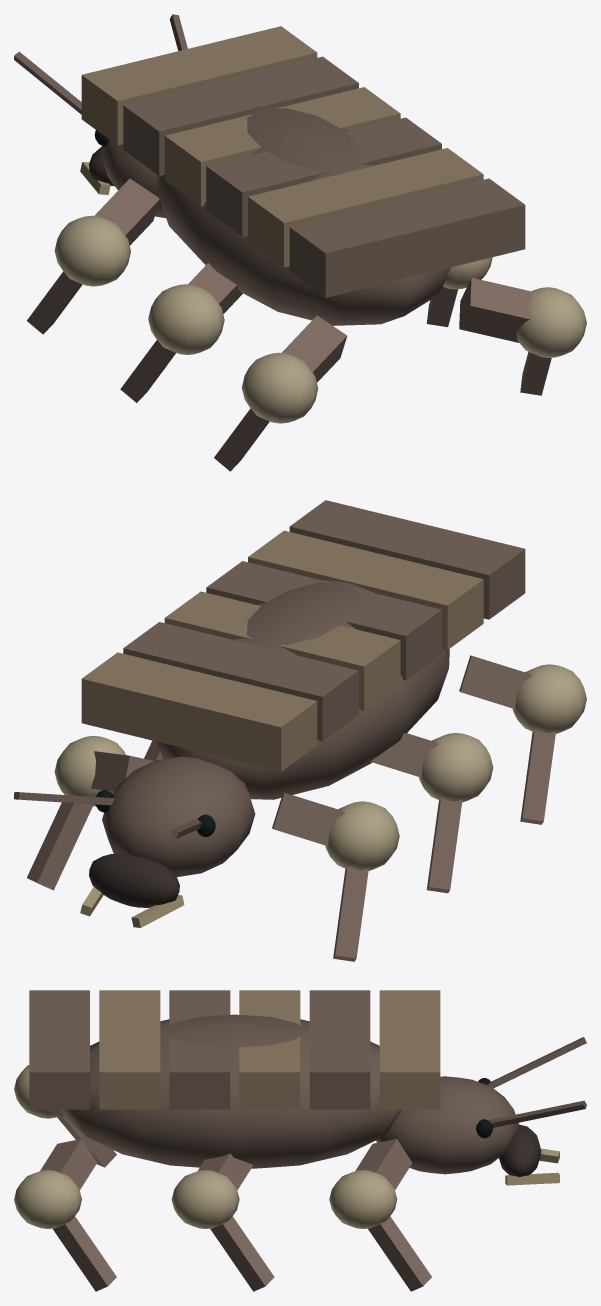
Rendered from axehound.glb.
The picture shows the model from 3 angles, top to bottom: view 1: azimuth 30°, elevation 25°; view 2: azimuth 150°, elevation 25°; view 3: azimuth 270°, elevation 25°; orthographic projection. The views are drawn at different scales.
Visible parts, largest first — view 1: carapace_stone, leg_2_1_stone, leg_0_-1_stone, leg_2_-1_stone, leg_1_-1_stone, leg_1_1_stone; view 2: carapace_stone, leg_2_-1_stone, leg_0_-1_stone, leg_1_-1_stone, leg_0_1_stone; view 3: carapace_stone, leg_0_1_stone, leg_2_1_stone, leg_1_1_stone, leg_2_-1_stone.
Part boxes in pixels (<box>): carapace_stone: <box>14,14,525,325</box>; leg_2_1_stone: <box>459,277,586,395</box>; leg_0_-1_stone: <box>27,178,159,334</box>; leg_2_-1_stone: <box>214,315,347,471</box>; leg_1_-1_stone: <box>120,263,242,402</box>; leg_1_1_stone: <box>426,257,492,327</box>; carapace_stone: <box>14,500,525,927</box>; leg_2_-1_stone: <box>459,655,586,824</box>; leg_0_-1_stone: <box>272,792,399,961</box>; leg_1_-1_stone: <box>370,733,493,893</box>; leg_0_1_stone: <box>27,735,153,890</box>; carapace_stone: <box>29,990,586,1185</box>; leg_0_1_stone: <box>329,1139,431,1291</box>; leg_2_1_stone: <box>14,1139,116,1291</box>; leg_1_1_stone: <box>171,1153,274,1291</box>; leg_2_-1_stone: <box>14,1065,116,1167</box>.
Size of the model in its own units: 1.33 by 0.9151 by 2.36.
